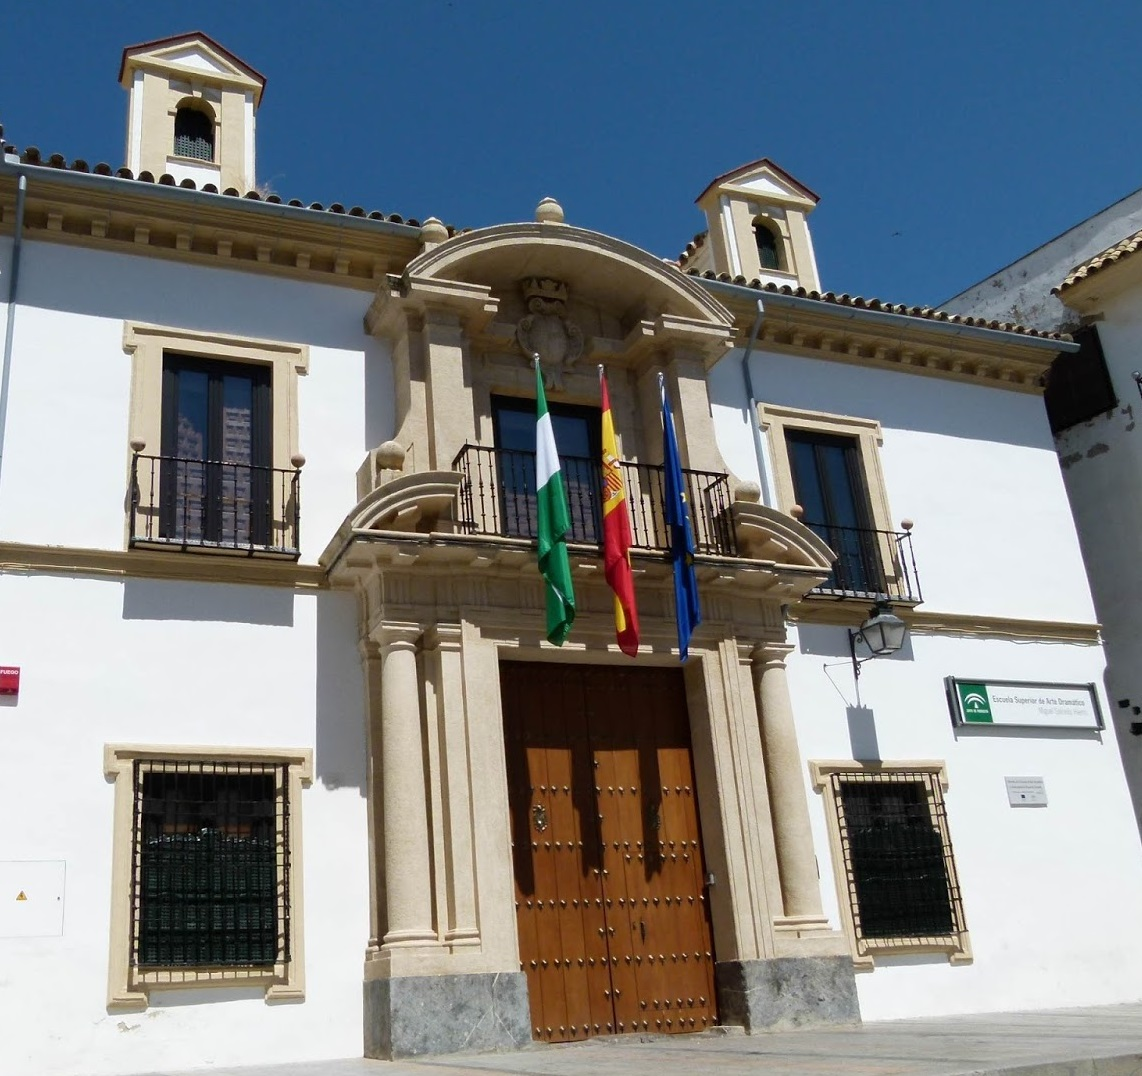fronton: (118, 27, 272, 100), (710, 156, 823, 215)
fronton-partido: (335, 464, 842, 596), (396, 222, 740, 346)
vano-adintelado: (452, 597, 773, 1042), (99, 739, 320, 1005), (118, 315, 315, 567), (808, 758, 980, 967), (751, 400, 914, 600)
